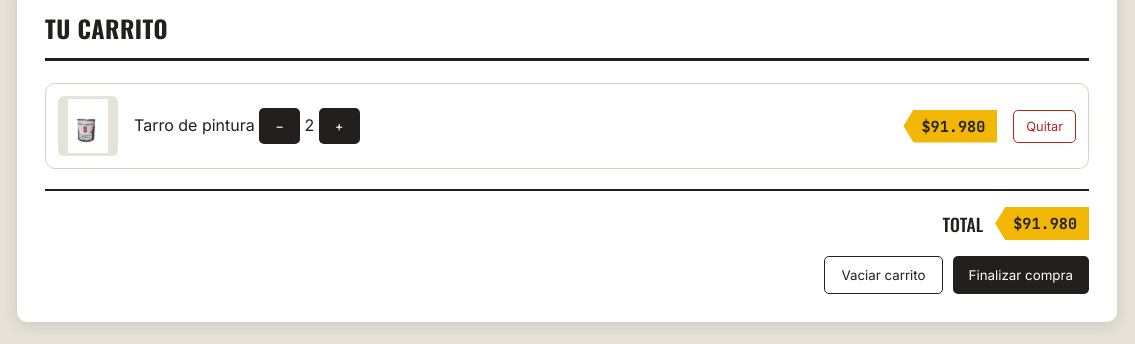
it: El botón + suma una unidad y descuenta una del stock
# interaccion del usuario
Click the button "+" at point(339, 126), box left=319, top=108, right=360, bottom=144
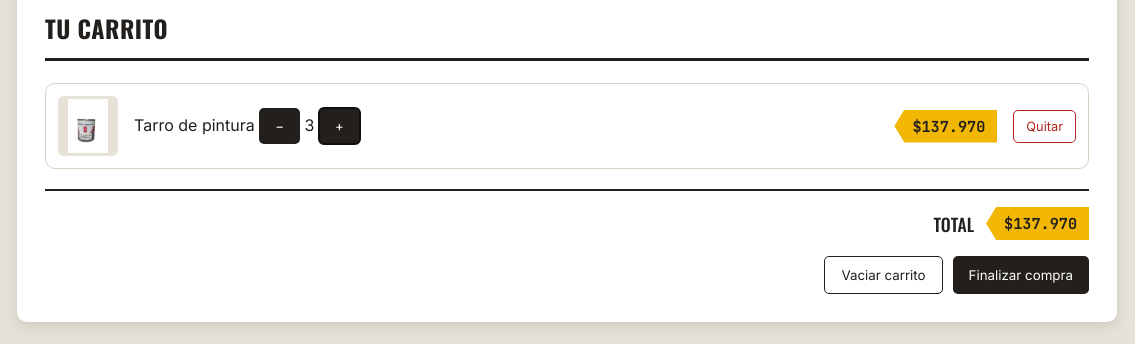
Expected: the text "3" is shown, left=304, top=115, right=314, bottom=135
